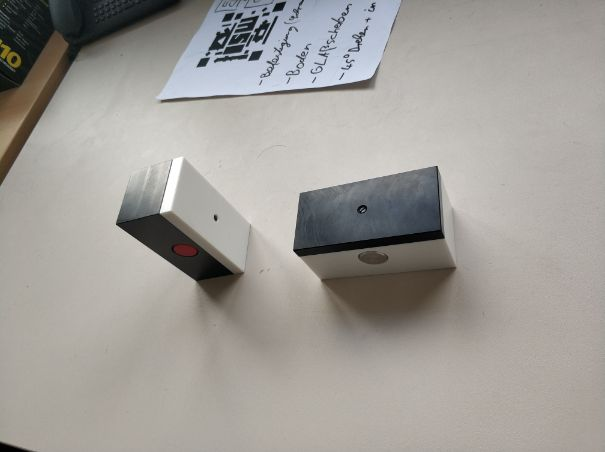black+white+silver: (291, 164, 457, 282)
white+black+red: (114, 156, 252, 283)
